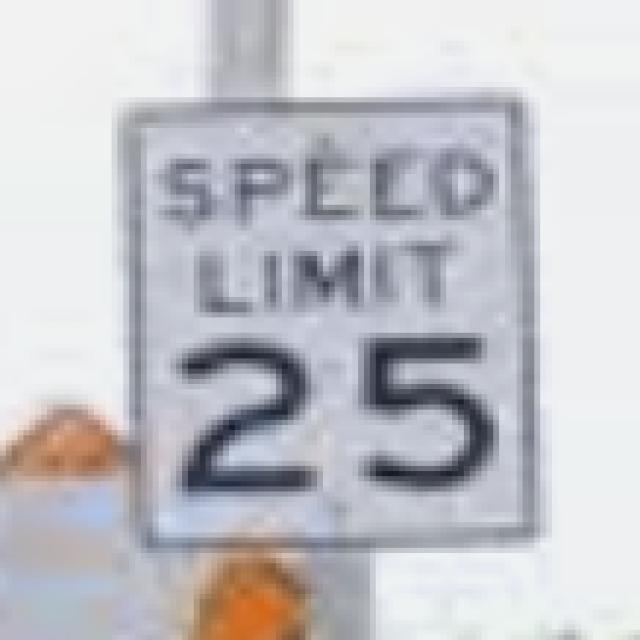speedLimit25: (127, 106, 535, 543)
